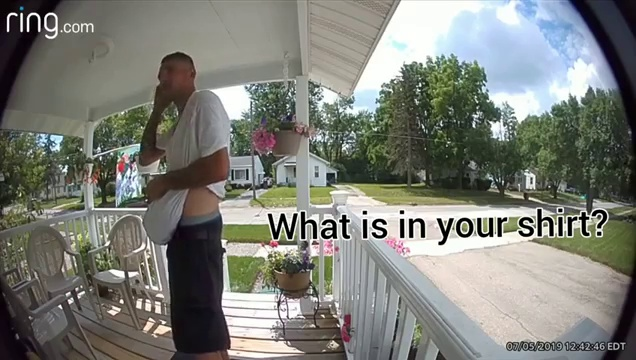face: (156, 62, 180, 94)
